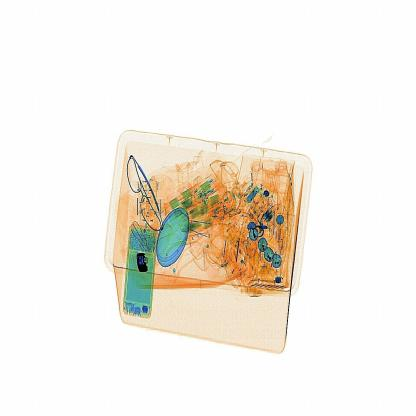pliers: (131, 247, 153, 274)
